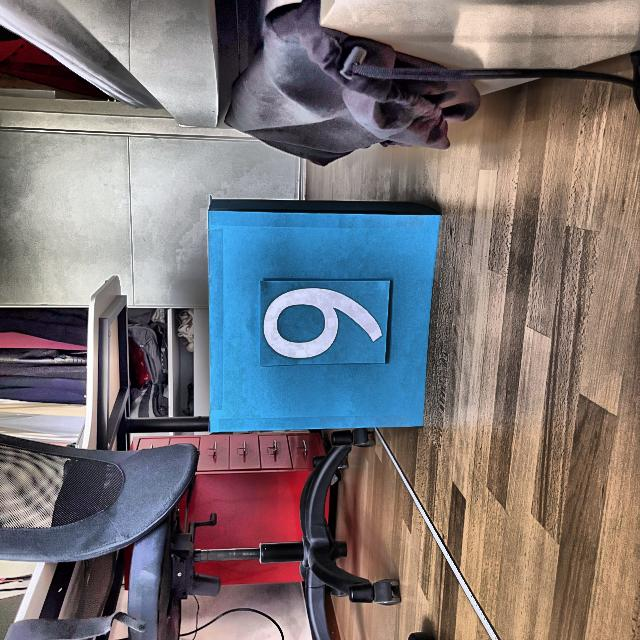blue box: (204, 194, 442, 436)
nine: (262, 283, 386, 362)
